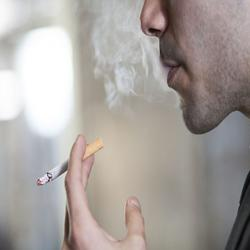smoking: (35, 133, 149, 250)
